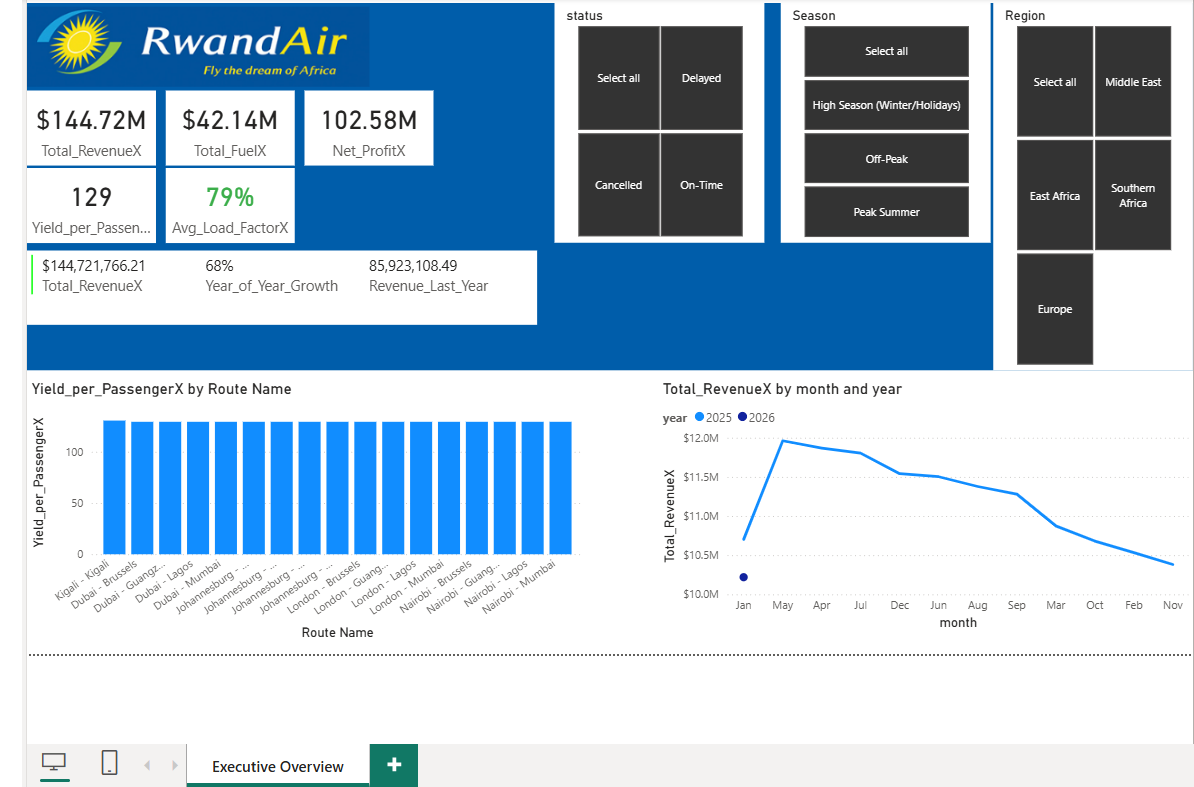

The page's visual inventory and layout, read from the dashboard file:
{"tool":"powerbi","page":{"name":"Executive Overview","canvas":[1280,720],"ordinal":0},"visuals":[{"type":"shape","box":[0,5.5,1280.3,403.4],"z":0},{"type":"card","fields":{"Values":["Fact_Table.Total_RevenueX"]},"box":[0,101.5,141.3,82.3],"z":1000},{"type":"card","fields":{"Values":["Fact_Table.Avg_Load_FactorX"]},"box":[152.3,186.6,141.3,82.3],"z":2000},{"type":"card","fields":{"Values":["Fact_Table.Yield_per_PassengerX"]},"box":[0,186.6,141.3,82.3],"z":3000},{"type":"lineChart","fields":{"Category":["analytics dim_time.month"],"Series":["analytics dim_time.year"],"Y":["Fact_Table.Total_RevenueX"]},"box":[693,418.5,587.3,279.9],"z":4000},{"type":"clusteredColumnChart","fields":{"Category":["analytics flight_operations.Route Name"],"Y":["Fact_Table.Yield_per_PassengerX"]},"box":[0,418.6,615.5,291.1],"z":5000},{"type":"slicer","fields":{"Values":["analytics dim_time.Season"]},"box":[827.4,5.5,230.5,263.5],"z":6000},{"type":"slicer","fields":{"Values":["analytics dim_city.Region"]},"box":[1060.7,5.5,219.6,403.4],"z":7000},{"type":"slicer","fields":{"Values":["Fact_Table.status"]},"box":[579.1,5.5,230,263],"z":8000},{"type":"card","fields":{"Values":["Fact_Table.Total_FuelX"]},"box":[152.3,101.5,141.3,82.3],"z":9000},{"type":"image","box":[0,5.5,376,96.1],"z":10000},{"type":"card","fields":{"Values":["Fact_Table.Net_ProfitX"]},"box":[304.6,101.5,141.3,82.3],"z":11000},{"type":"multiRowCard","fields":{"Values":["Fact_Table.Total_RevenueX","Fact_Table.Year_of_Year_Growth","Fact_Table.Revenue_Last_Year"]},"box":[0,277.6,560.1,81.9],"z":12000}]}

Visuals, with their boxes on the page's 1280x720 design canvas (x1, y1, x2, y2). These are canvas units, not pixel positions in the 1194x787 screenshot, which may show the page scaled, cropped or inside an application window:
shape: bbox(0, 6, 1280, 409)
card - Fact_Table.Total_RevenueX: bbox(0, 102, 141, 184)
card - Fact_Table.Avg_Load_FactorX: bbox(152, 187, 294, 269)
card - Fact_Table.Yield_per_PassengerX: bbox(0, 187, 141, 269)
lineChart - analytics dim_time.month x analytics dim_time.year: bbox(693, 418, 1280, 698)
clusteredColumnChart - analytics flight_operations.Route Name x Fact_Table.Yield_per_PassengerX: bbox(0, 419, 616, 710)
slicer - analytics dim_time.Season: bbox(827, 6, 1058, 269)
slicer - analytics dim_city.Region: bbox(1061, 6, 1280, 409)
slicer - Fact_Table.status: bbox(579, 6, 809, 268)
card - Fact_Table.Total_FuelX: bbox(152, 102, 294, 184)
image: bbox(0, 6, 376, 102)
card - Fact_Table.Net_ProfitX: bbox(305, 102, 446, 184)
multiRowCard - Fact_Table.Total_RevenueX x Fact_Table.Year_of_Year_Growth: bbox(0, 278, 560, 360)
